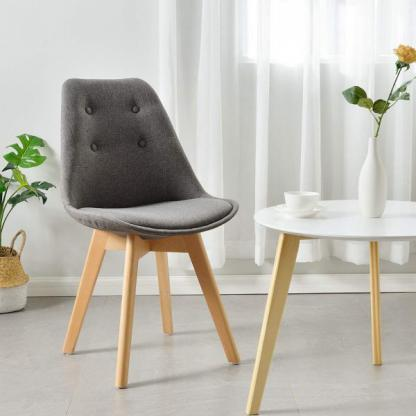chair: (33, 60, 245, 388)
table: (247, 209, 416, 416)
